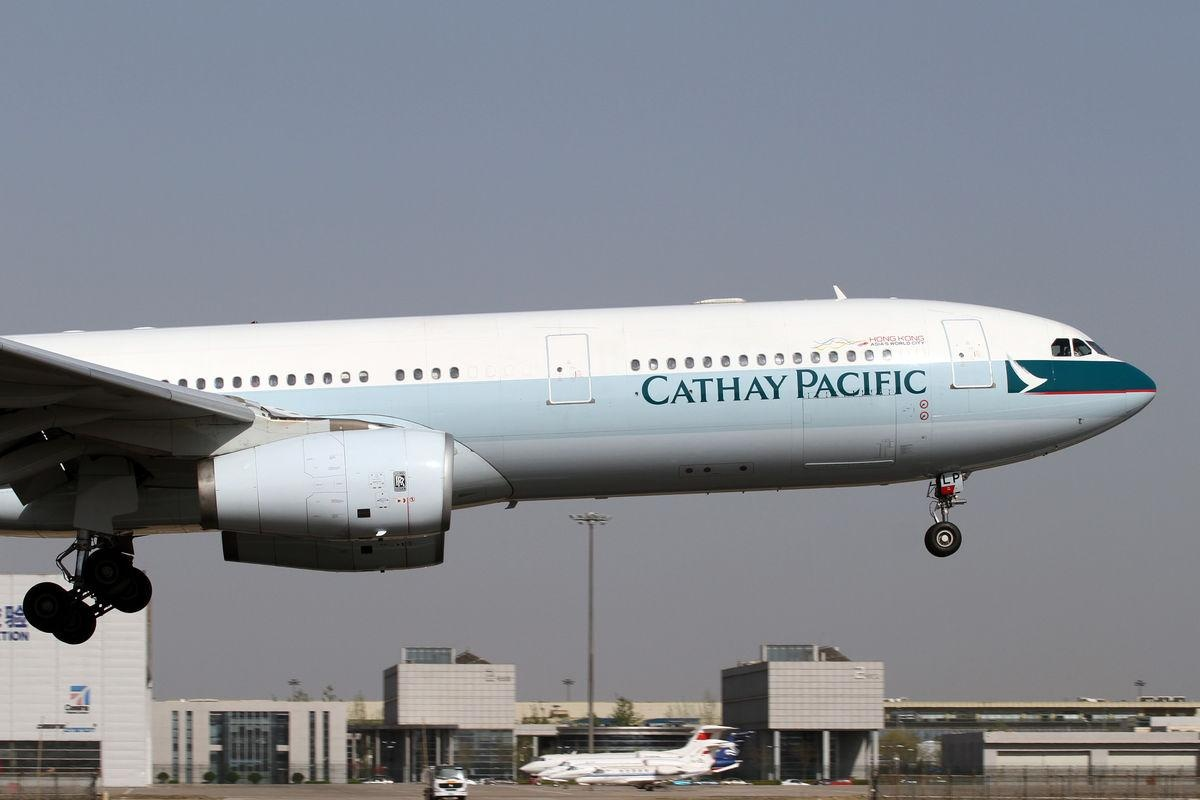airplane: (1, 266, 1166, 620)
